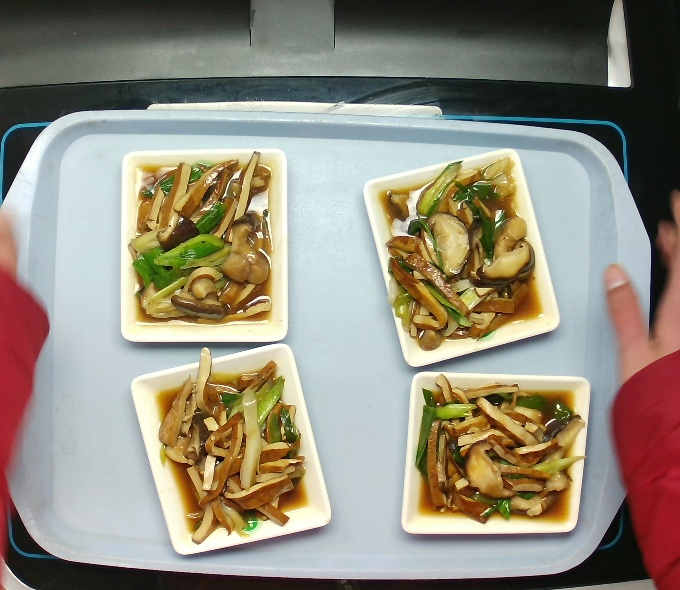wcq-XiangGuChaoXiangGan: (150, 341, 313, 550), (384, 152, 543, 357), (411, 372, 593, 532), (124, 146, 279, 331)
